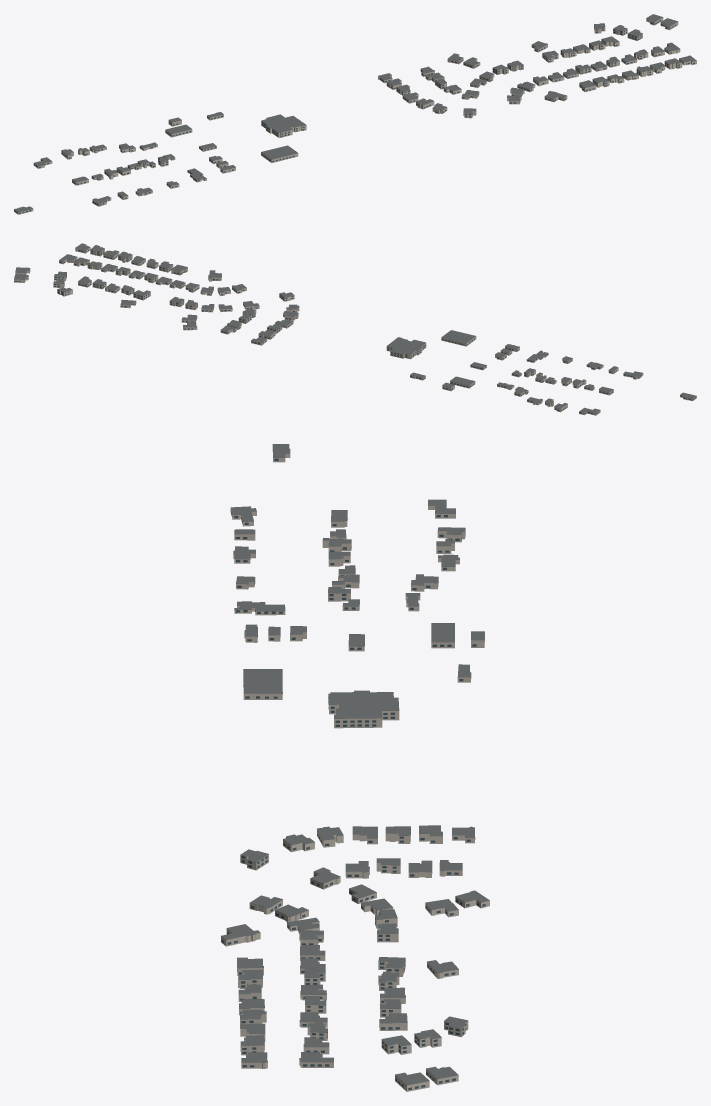
The picture shows the model from 3 angles, top to bottom: view 1: azimuth 30°, elevation 25°; view 2: azimuth 150°, elevation 25°; view 3: azimuth 270°, elevation 25°; orthographic projection. The views are drawn at different scales.
Parts seen in each view (by area): view 1: Buildings (-1, 10) Roof membrane, Buildings (-1, 10) Masonry brick, Buildings (-1, 10) Architectural tinted glass, Buildings (-1, 10) Metal coping; view 2: Buildings (-1, 10) Roof membrane, Buildings (-1, 10) Masonry brick, Buildings (-1, 10) Architectural tinted glass, Buildings (-1, 10) Metal coping; view 3: Buildings (-1, 10) Roof membrane, Buildings (-1, 10) Masonry brick, Buildings (-1, 10) Architectural tinted glass, Buildings (-1, 10) Metal coping.
Boxes of the visible parts, x1,y1,x2,y2 form: Buildings (-1, 10) Roof membrane: (14, 14, 696, 212); Buildings (-1, 10) Masonry brick: (14, 17, 696, 214); Buildings (-1, 10) Architectural tinted glass: (14, 20, 694, 213); Buildings (-1, 10) Metal coping: (14, 17, 696, 210); Buildings (-1, 10) Roof membrane: (14, 243, 696, 413); Buildings (-1, 10) Masonry brick: (14, 245, 696, 415); Buildings (-1, 10) Architectural tinted glass: (14, 250, 695, 414); Buildings (-1, 10) Metal coping: (14, 245, 694, 412); Buildings (-1, 10) Roof membrane: (222, 444, 488, 1085); Buildings (-1, 10) Masonry brick: (221, 447, 489, 1091); Buildings (-1, 10) Architectural tinted glass: (221, 458, 485, 1090); Buildings (-1, 10) Metal coping: (221, 444, 489, 1085).
Size of the model in its own units: 1020 by 14.45 by 183.
